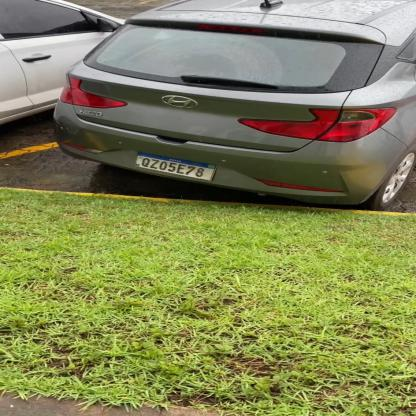Plate: (137, 148, 220, 181)
